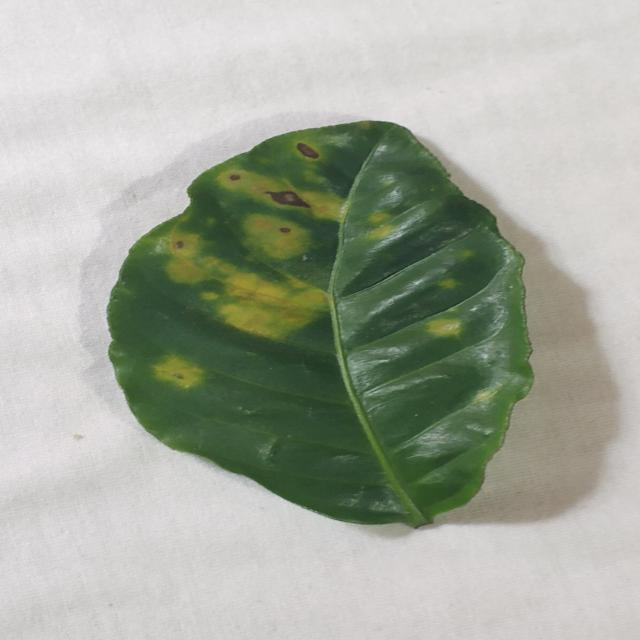Enfermedad-Roya: (106, 121, 536, 532)
